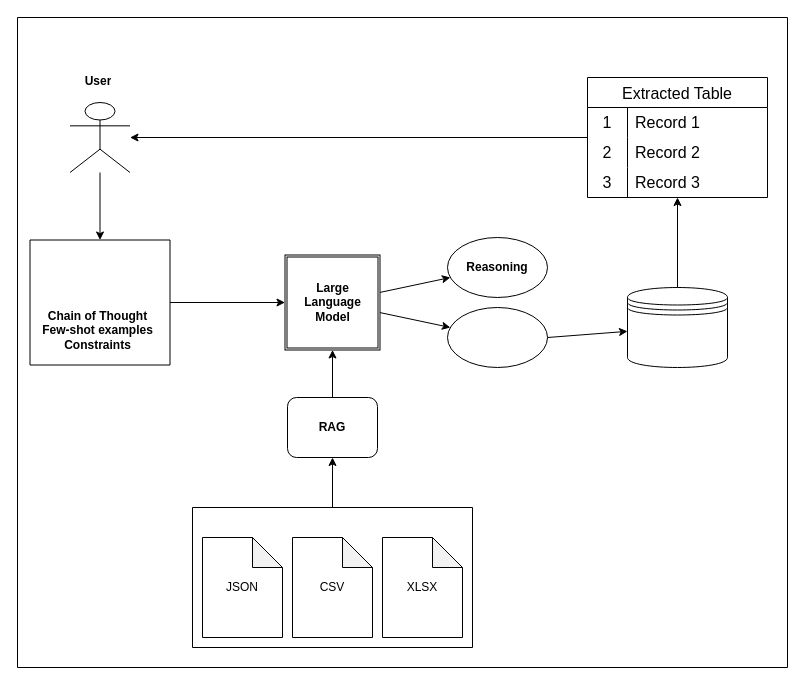
Some shapes in this 805 by 685 pixel diagram are drawn without their labels. The centre of each missing label's shape, as x and y in pixels:
"Database" belongs at (677,327).
"Reference Files" belongs at (332,577).
"SQL" belongs at (497,337).
"User Prompt" belongs at (99,302).
